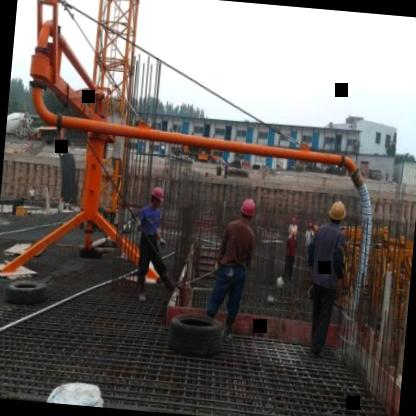helmet: (326, 195, 350, 228), (145, 181, 170, 212), (236, 194, 260, 222)
